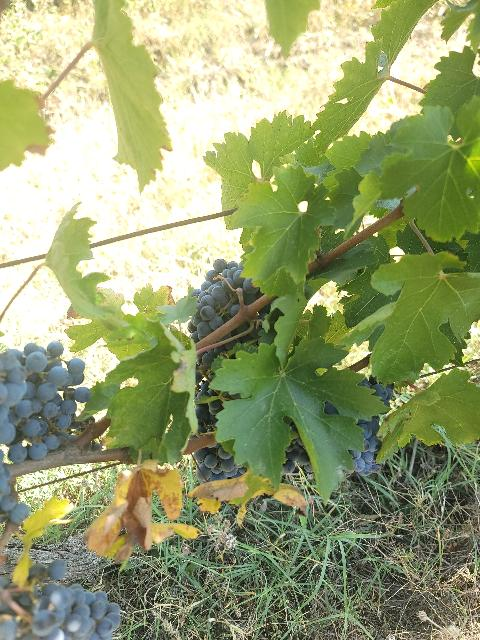grapes: (0, 341, 90, 462), (0, 561, 121, 640), (188, 259, 260, 341)
